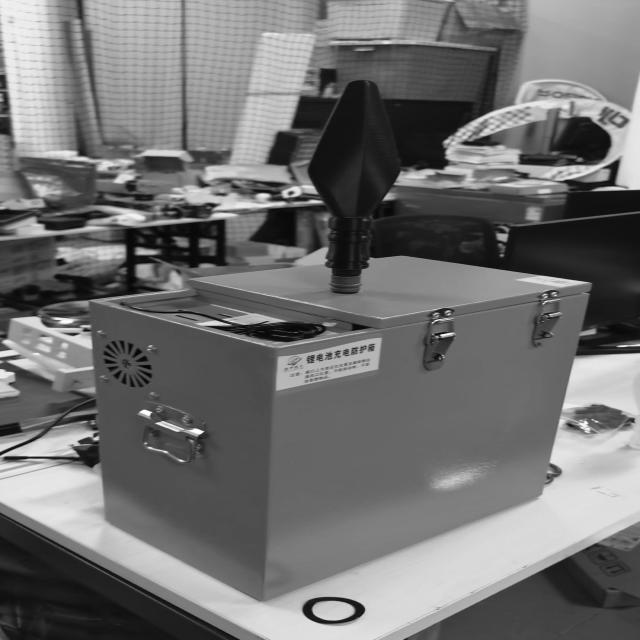base: (330, 272, 363, 294)
